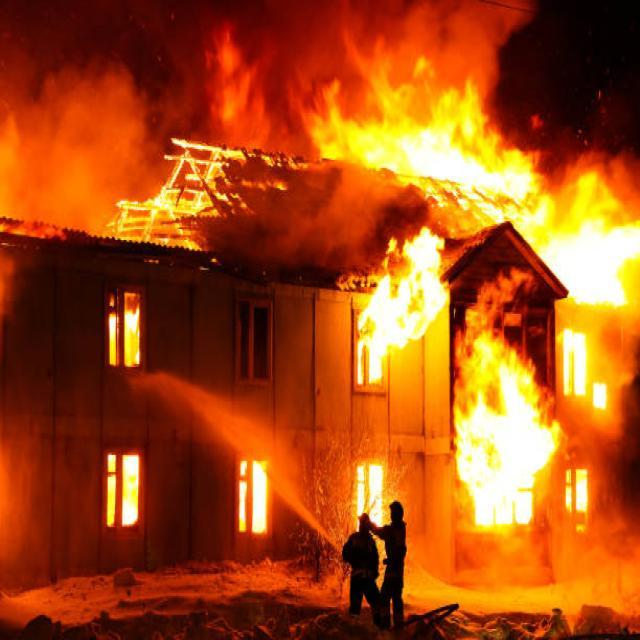Fire: (319, 55, 640, 310), (462, 333, 562, 523), (354, 212, 450, 386)
